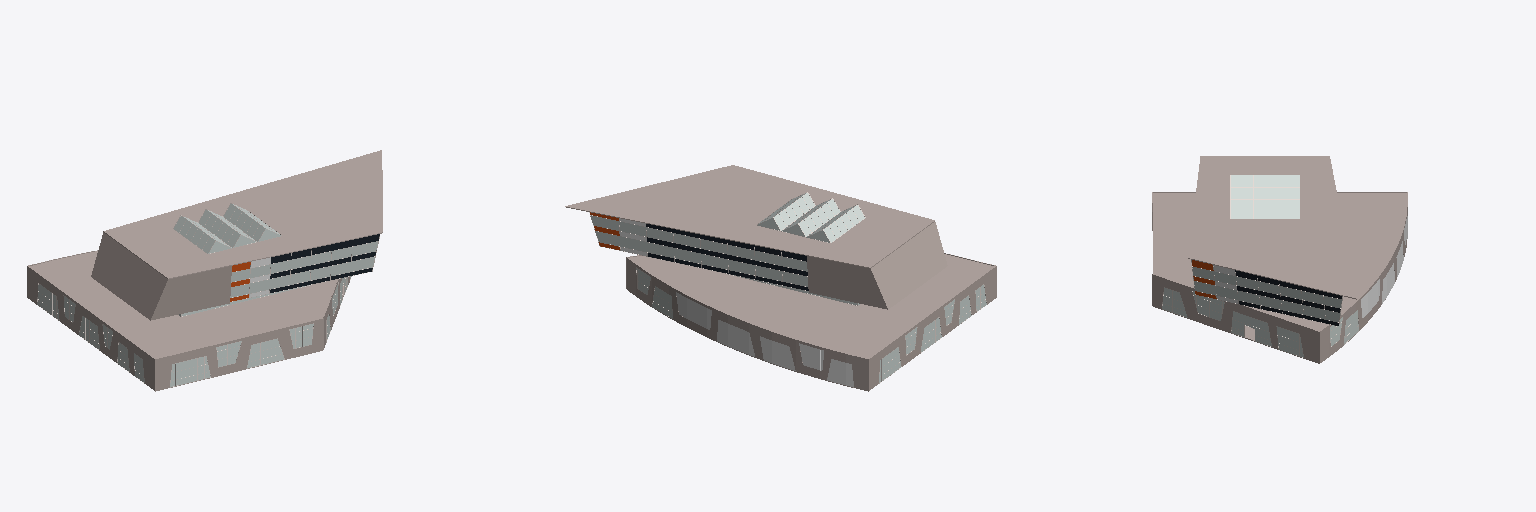
Rendered from technovium1.obj.
The picture shows the model from 3 angles: view 1: azimuth 30°, elevation 25°; view 2: azimuth 150°, elevation 25°; view 3: azimuth 270°, elevation 25°; orthographic projection.
Visible parts, largest first — view 1: Floors, System Panel, Walls, Rectangular Mullion; view 2: Floors, Walls, System Panel, Rectangular Mullion; view 3: Floors, System Panel, Walls, Rectangular Mullion.
Part boxes in pixels (bbox=[...]): Floors: bbox=[29, 150, 382, 391]; System Panel: bbox=[37, 204, 379, 386]; Walls: bbox=[27, 232, 349, 390]; Rectangular Mullion: bbox=[37, 203, 379, 387]; Floors: bbox=[565, 165, 994, 391]; Walls: bbox=[626, 222, 996, 390]; System Panel: bbox=[590, 193, 986, 382]; Rectangular Mullion: bbox=[589, 192, 986, 383]; Floors: bbox=[1153, 156, 1406, 363]; System Panel: bbox=[1162, 175, 1358, 357]; Walls: bbox=[1152, 192, 1407, 363]; Rectangular Mullion: bbox=[1162, 175, 1358, 357].
Bounding box in the file's own units: 100 × 28.74 × 67.43.